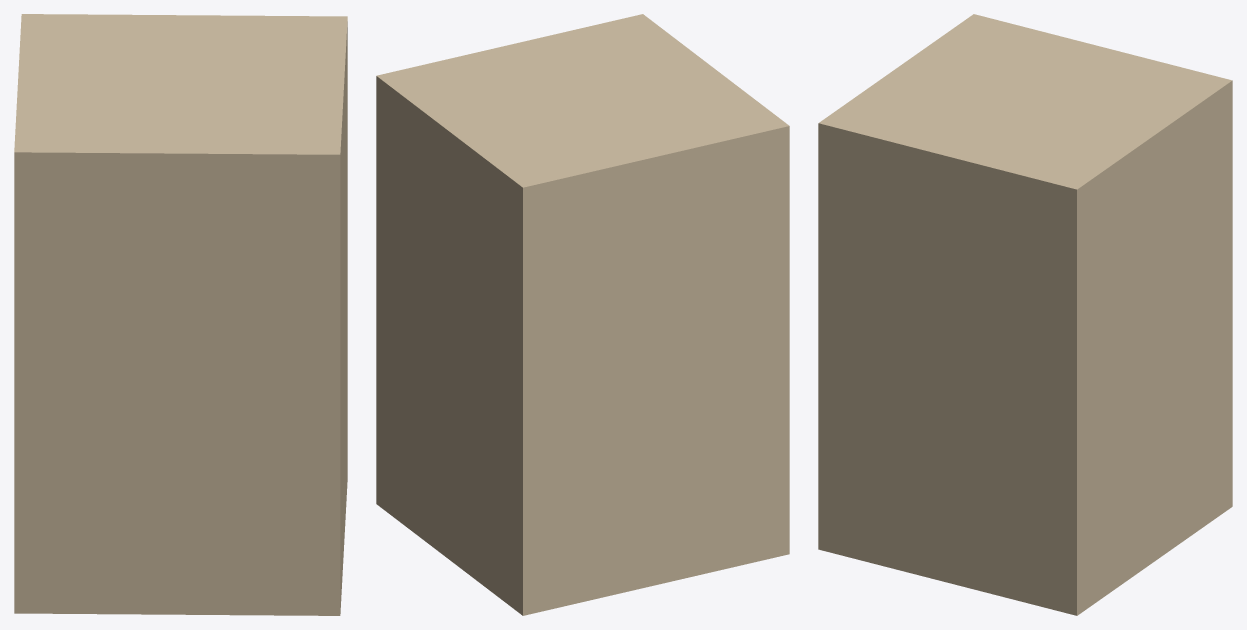
The model's file is -1_3-estimated-coarse.glb.
3 renders of one model, left to right at view 1: azimuth 30°, elevation 25°; view 2: azimuth 150°, elevation 25°; view 3: azimuth 270°, elevation 25°, orthographic. The views are drawn at different scales.
Bounding box in the file's own units: 10.6 × 12 × 10.56.
